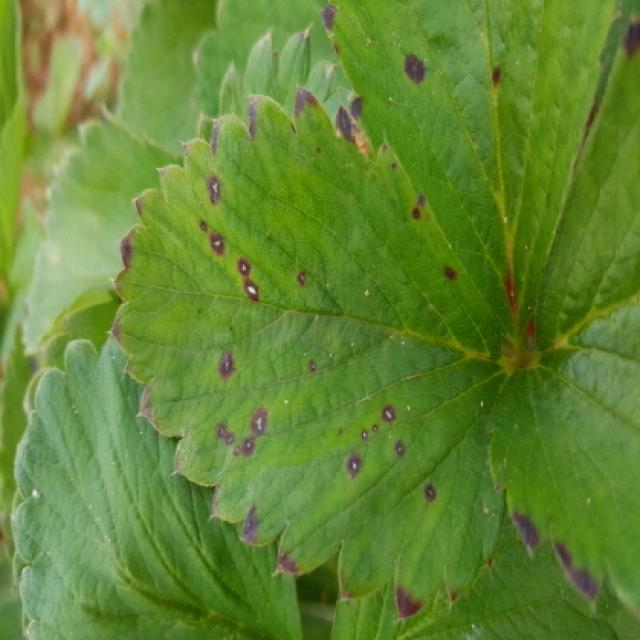Leaf Spot: (107, 84, 522, 624), (322, 0, 620, 351)
